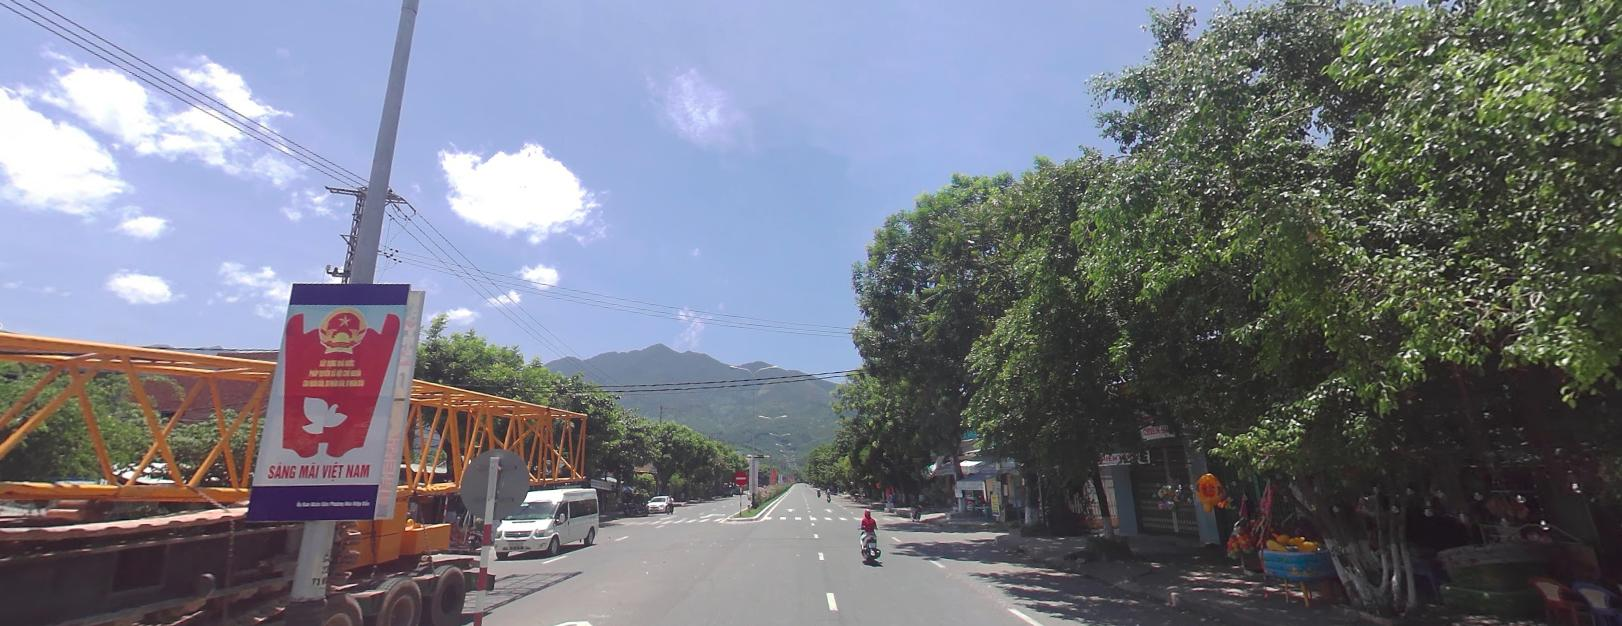Cam nguoc chieu: (733, 469, 747, 483)
